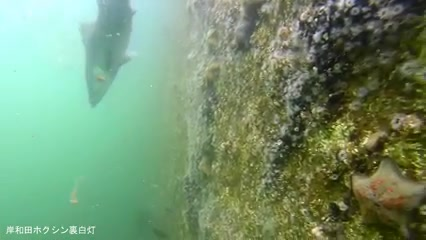suzuki: (79, 1, 140, 121)
